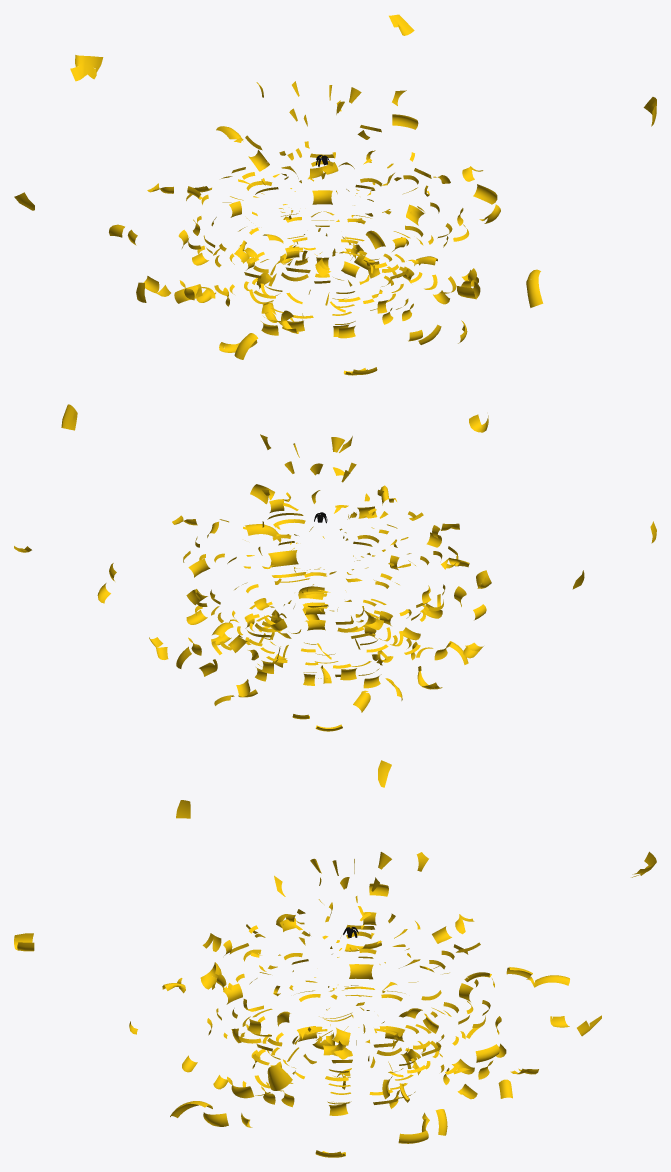
3 renders of one model, top to bottom at view 1: azimuth 30°, elevation 25°; view 2: azimuth 150°, elevation 25°; view 3: azimuth 270°, elevation 25°, orthographic. The views are drawn at different scales.
Parts seen in each view (by area): view 1: Torus.006; view 2: Torus.006; view 3: Torus.006.
Boxes of the visible parts, x1,y1,x2,y2 form: Torus.006: [14, 14, 656, 375]; Torus.006: [14, 404, 656, 731]; Torus.006: [14, 760, 656, 1157].
Size of the model in its own units: 687 by 262 by 625.
